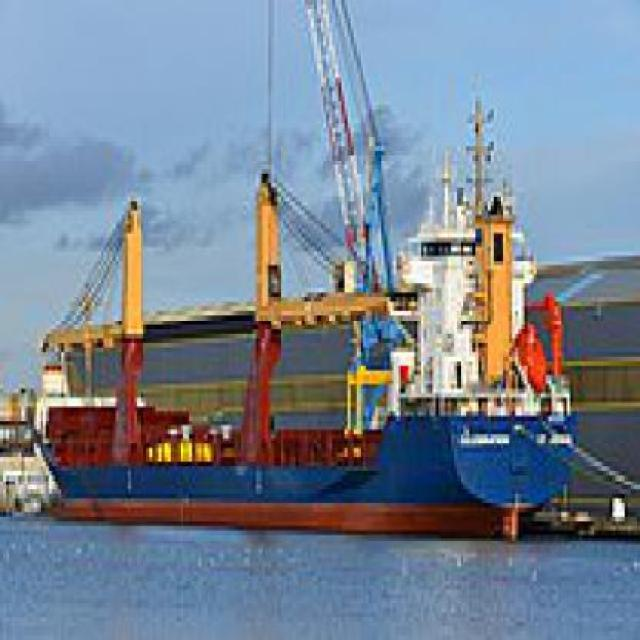container: (44, 134, 593, 551)
